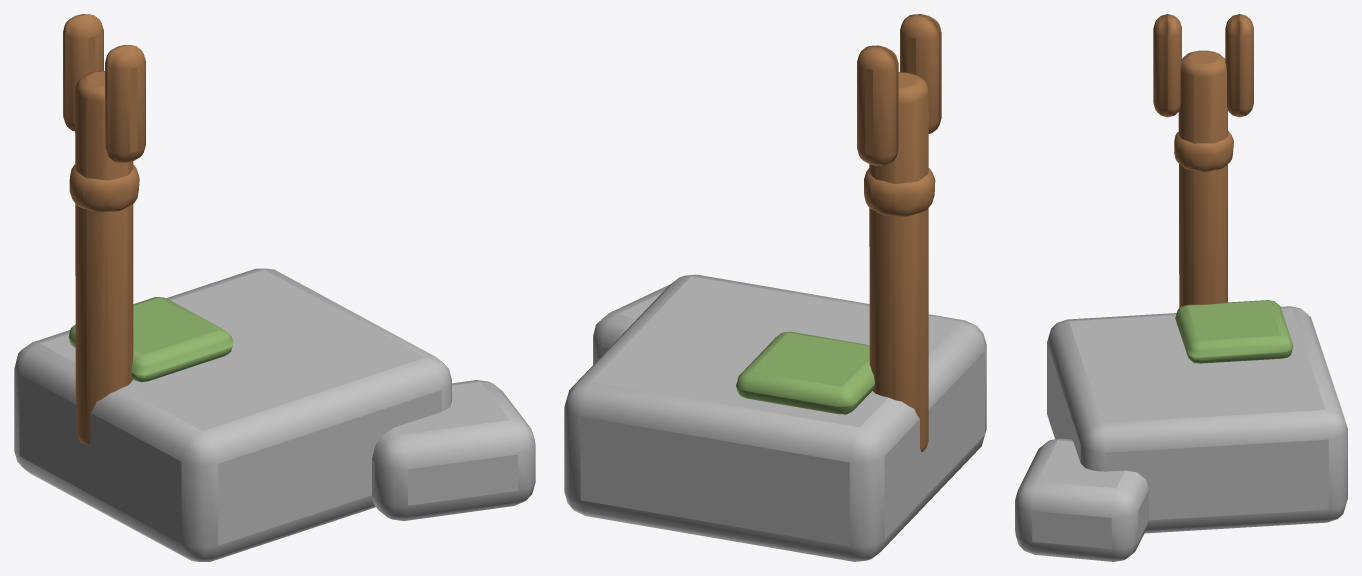
The model's file is shishi_base.glb.
3 views of the same model, side by side, from view 1: azimuth 30°, elevation 25°; view 2: azimuth 150°, elevation 25°; view 3: azimuth 270°, elevation 25° (orthographic). The views are drawn at different scales.
Parts seen in each view (by area): view 1: fork_a; view 2: fork_a; view 3: fork_a.
Boxes of the visible parts, x1,y1,x2,y2 form: fork_a: [14, 14, 535, 561]; fork_a: [564, 14, 986, 561]; fork_a: [1015, 14, 1347, 561].
Bounding box in the file's own units: 0.6565 × 0.7812 × 0.578.
